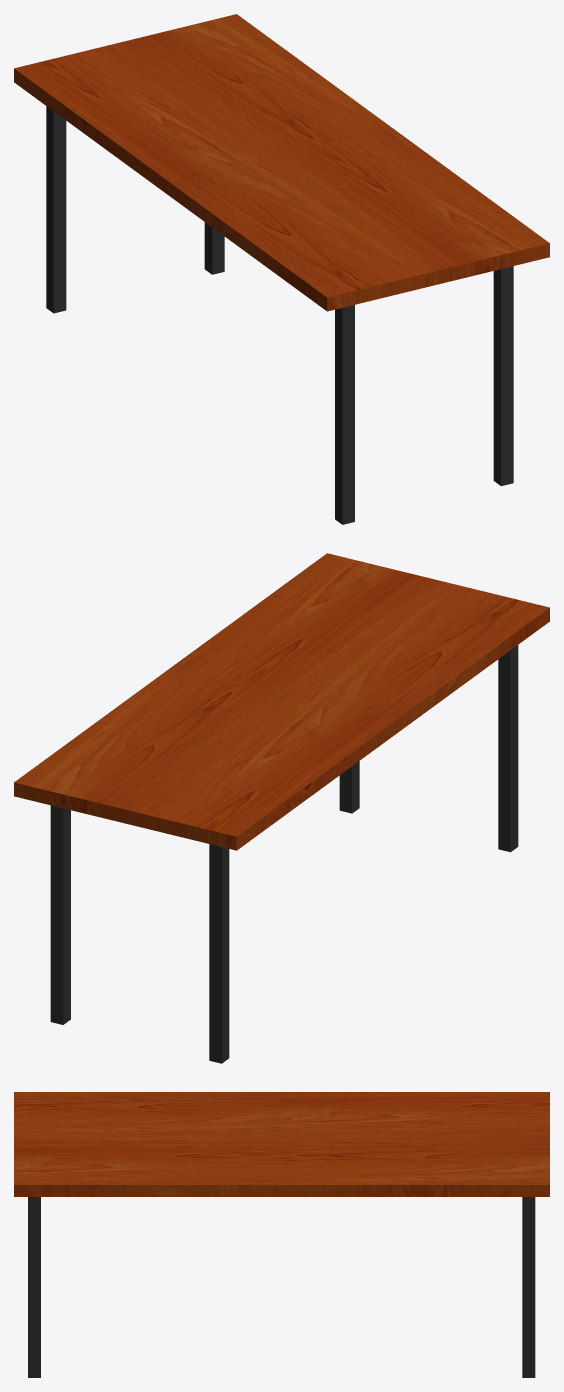
The model's file is Table.FBX.
3 renders of one model, top to bottom at view 1: azimuth 30°, elevation 25°; view 2: azimuth 150°, elevation 25°; view 3: azimuth 270°, elevation 25°, orthographic. The views are drawn at different scales.
Visible parts, largest first — view 1: Table-Blockout; view 2: Table-Blockout; view 3: Table-Blockout.
Part boxes in pixels (box(x1,y1,x2,y2)): Table-Blockout: box(14, 14, 549, 524); Table-Blockout: box(14, 553, 549, 1063); Table-Blockout: box(14, 1092, 549, 1377).
Size of the model in its own units: 0.7397 by 1.8 by 0.7584.
1 material, 1 textured.
